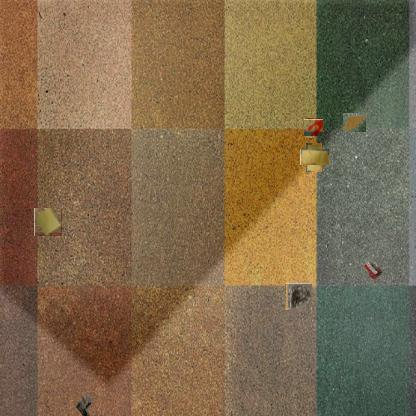dirty: (34, 209, 62, 236), (285, 284, 312, 310), (71, 392, 96, 416), (360, 257, 384, 281), (303, 146, 326, 169)
liquid: (342, 112, 366, 132), (304, 119, 323, 137)
